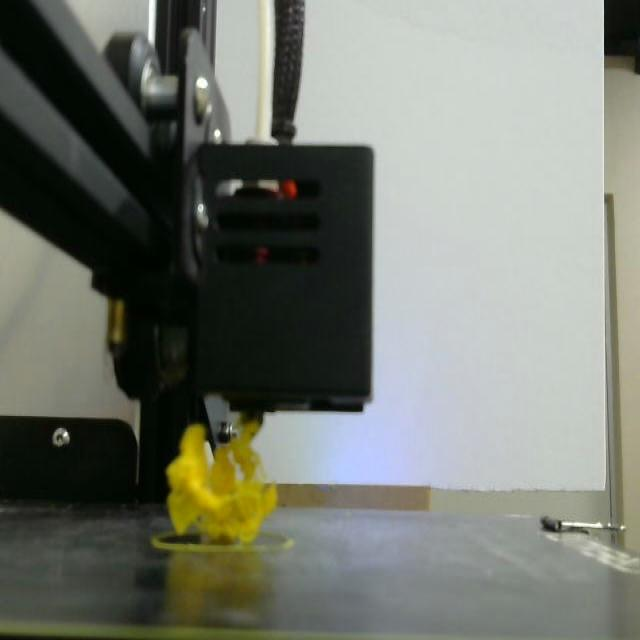spaghetti: (158, 411, 293, 554)
